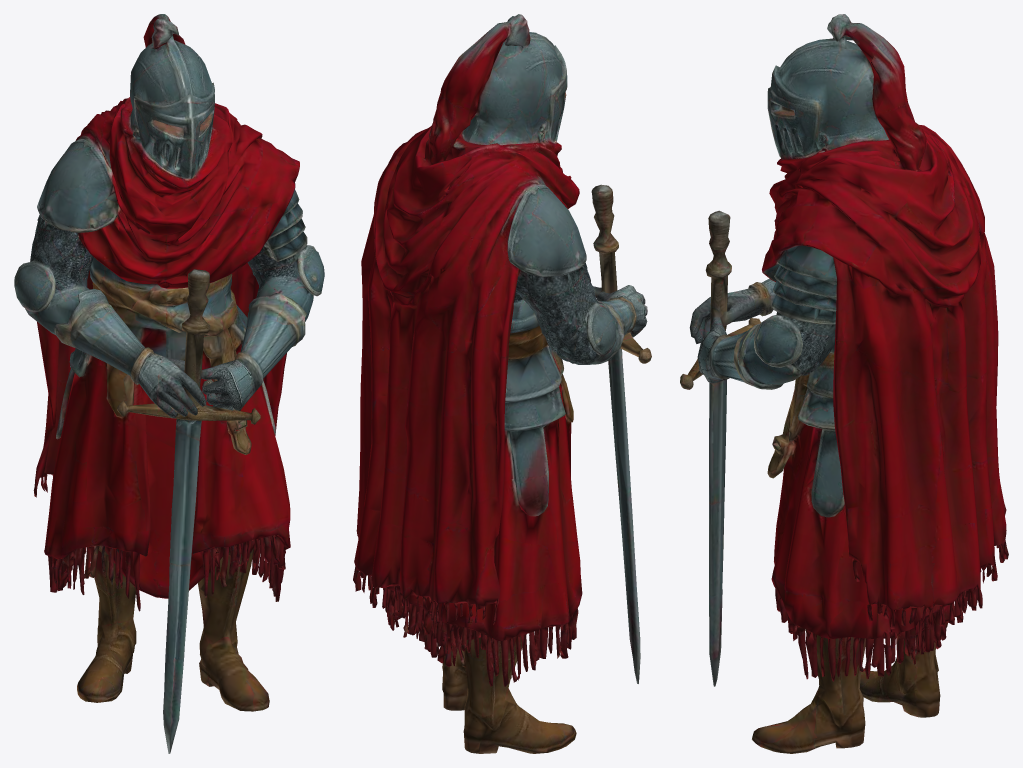
File: knight_campfire.glb
The picture shows the model from 3 angles, left to right: view 1: azimuth 30°, elevation 25°; view 2: azimuth 150°, elevation 25°; view 3: azimuth 270°, elevation 25°; orthographic projection. The views are drawn at different scales.
Bounding box in the file's own units: 0.7366 × 1.9 × 0.8077.
Materials: 1 (1 with a texture image).
